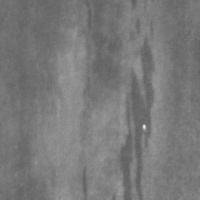inclusion: (107, 16, 159, 198), (79, 5, 119, 134), (78, 163, 92, 198)
scratches: (139, 121, 148, 133)
